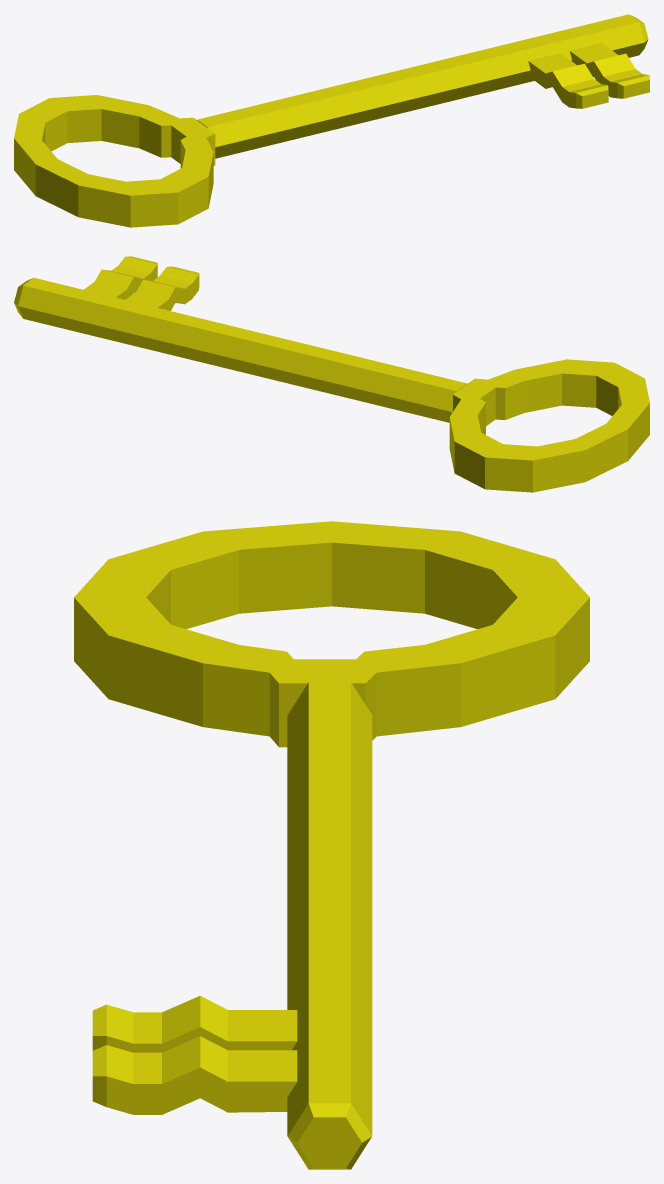
The model's file is llave.fbx.
3 renders of one model, top to bottom at view 1: azimuth 30°, elevation 25°; view 2: azimuth 150°, elevation 25°; view 3: azimuth 270°, elevation 25°, orthographic. The views are drawn at different scales.
Parts seen in each view (by area): view 1: Circle.001; view 2: Circle.001; view 3: Circle.001.
Part boxes in pixels (x1,y1,x2,y2): Circle.001: (14,14,649,227); Circle.001: (14,256,649,492); Circle.001: (74,521,589,1169).
Bounding box in the file's own units: 52.19 × 2.75 × 19.3.
